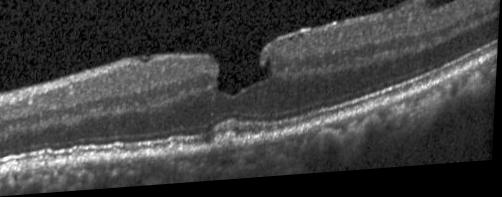lamellar_macular_rupture: (211, 53, 272, 99)
retinal_drusen: (213, 135, 239, 156), (74, 152, 85, 164), (42, 156, 52, 166), (112, 151, 120, 162), (170, 147, 179, 156), (87, 153, 93, 161)
